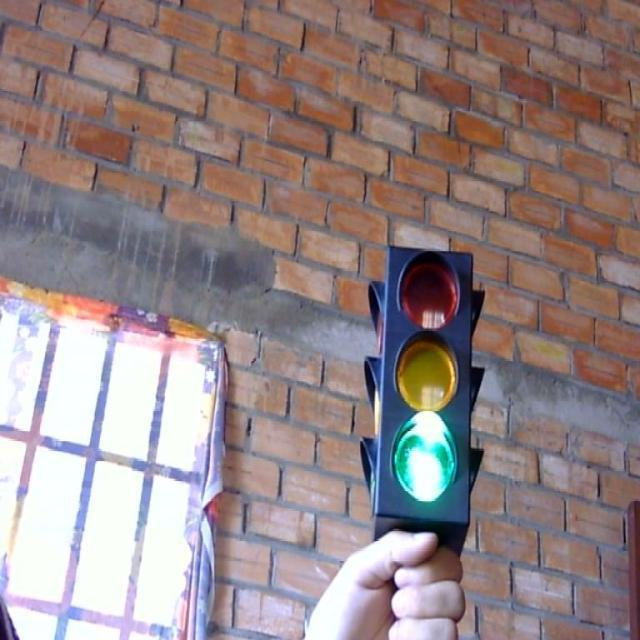green_light: (359, 244, 483, 550)
